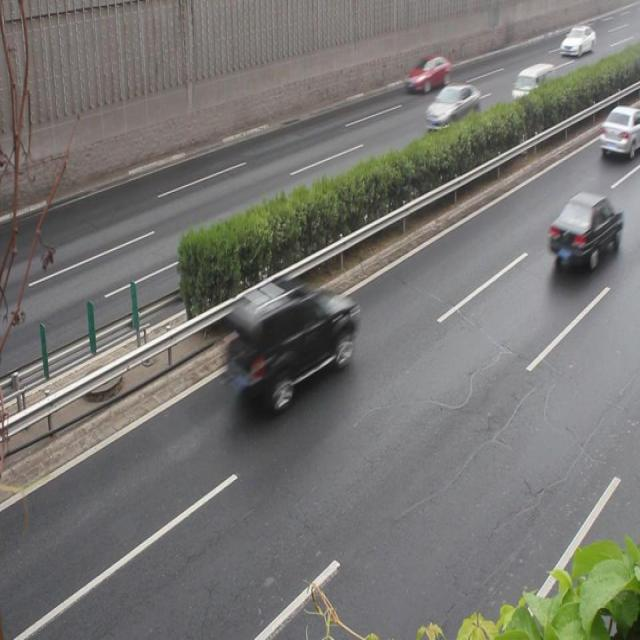car: (222, 276, 353, 405), (546, 191, 618, 271), (424, 82, 478, 134), (403, 51, 448, 91)
